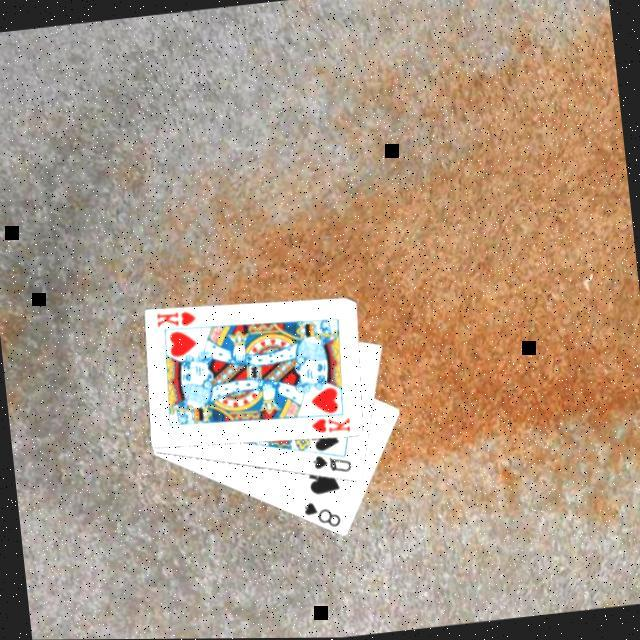8S: (301, 494, 346, 532)
KH: (310, 412, 356, 438), (154, 306, 202, 330)
QS: (309, 447, 356, 478)
